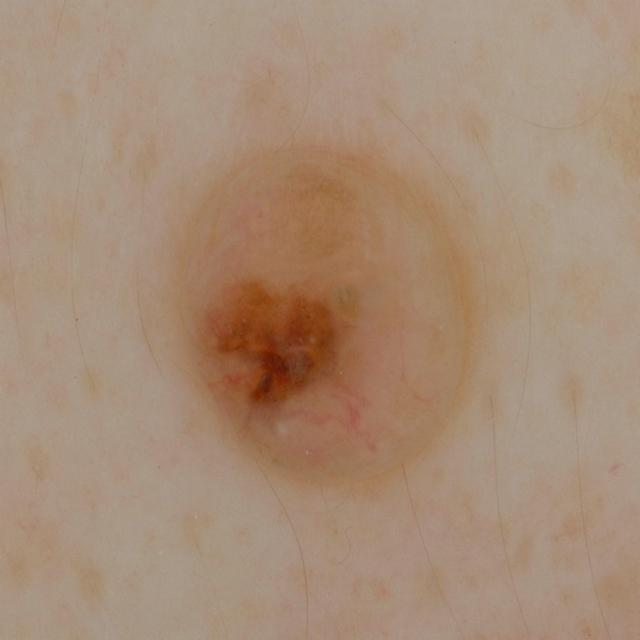Benign: (167, 130, 483, 507)
